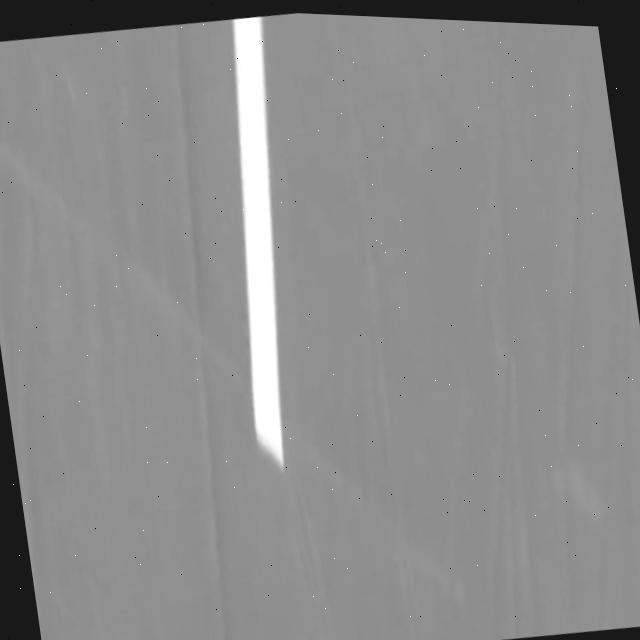center: (234, 17, 285, 468)
